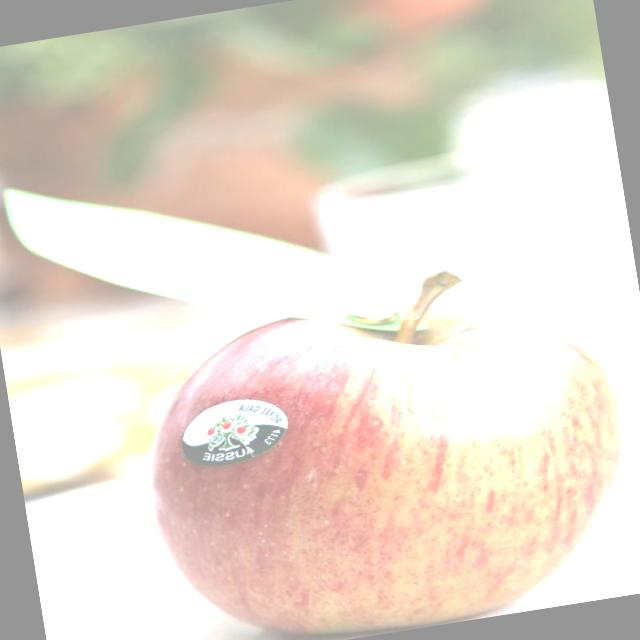Apple: (120, 244, 640, 640)
